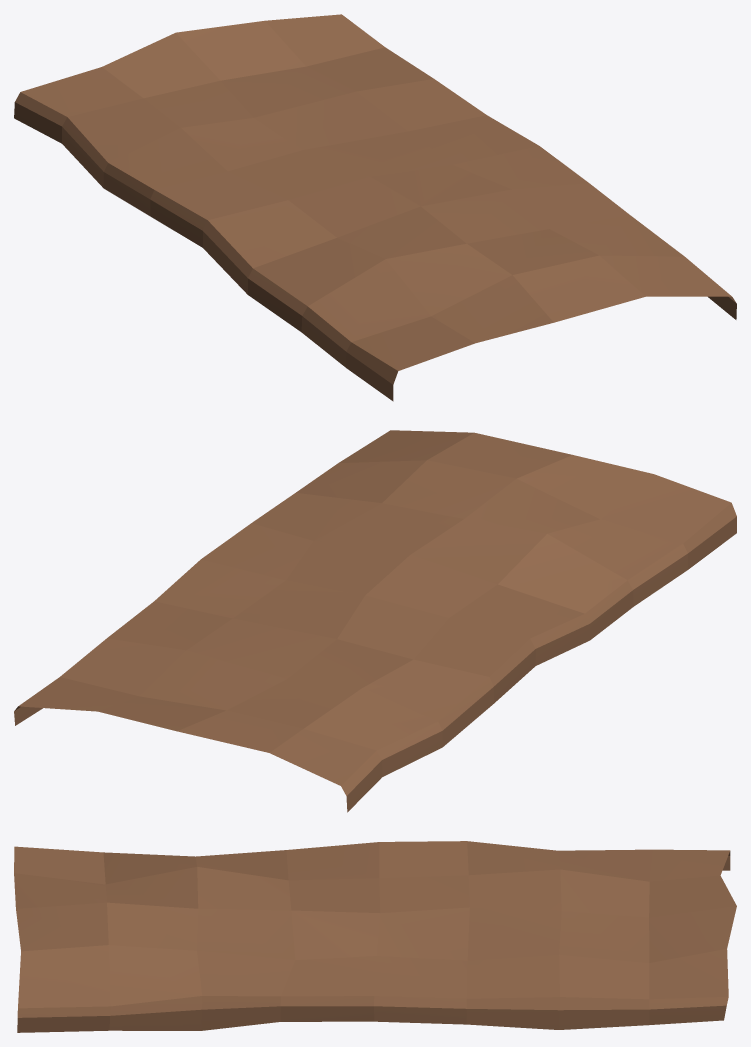
Rendered from RoadTile_2.fbx.
3 views of the same model, one above another, from view 1: azimuth 30°, elevation 25°; view 2: azimuth 150°, elevation 25°; view 3: azimuth 270°, elevation 25° (orthographic). The views are drawn at different scales.
Parts seen in each view (by area): view 1: RoadTile_2; view 2: RoadTile_2; view 3: RoadTile_2.
Boxes of the visible parts, bbox=[...] form: RoadTile_2: bbox=[14, 14, 736, 401]; RoadTile_2: bbox=[14, 430, 736, 812]; RoadTile_2: bbox=[14, 841, 736, 1032].
Bounding box in the file's own units: 414 × 60.51 × 795.
